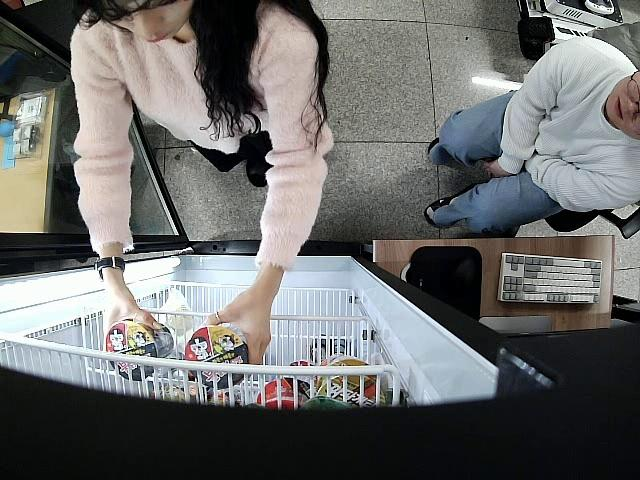00_hand: (204, 284, 271, 364), (99, 280, 161, 337)
08_buldak_S: (107, 318, 174, 381), (185, 326, 249, 389)
